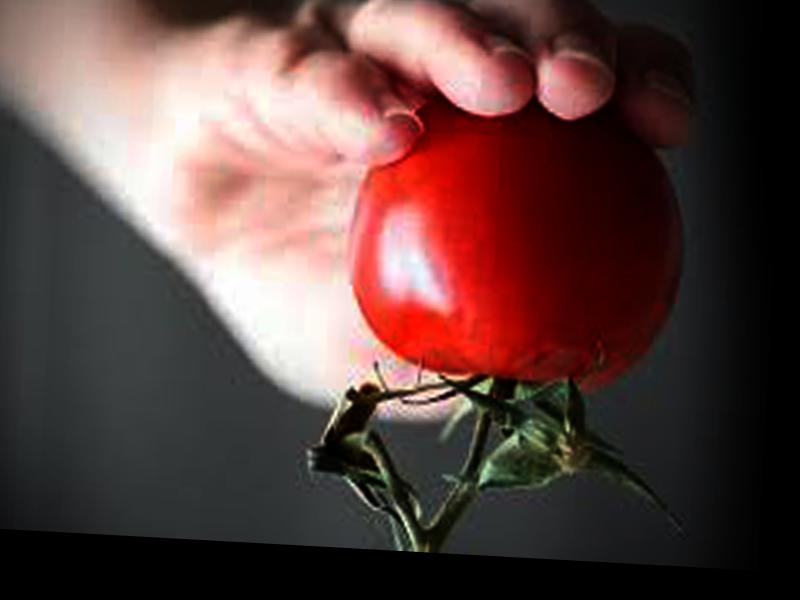Tomato: (344, 91, 691, 401)
